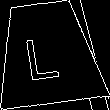L_N: (26, 26, 68, 81)
